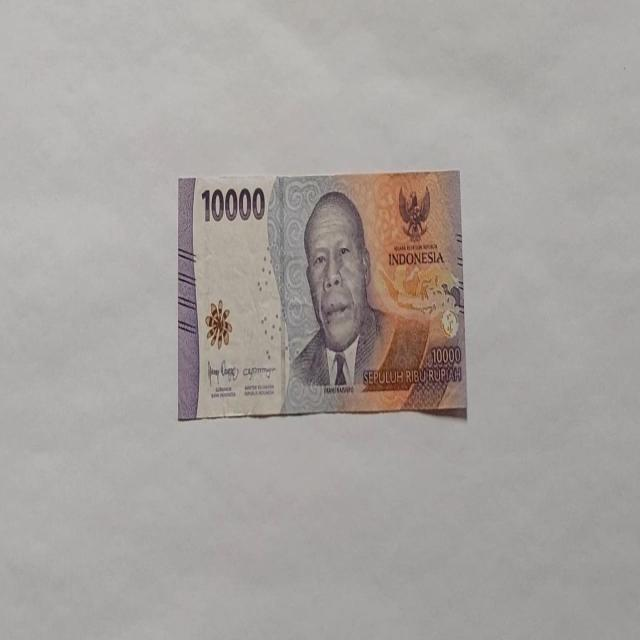Kertas: (177, 169, 467, 421), (200, 184, 266, 224)
